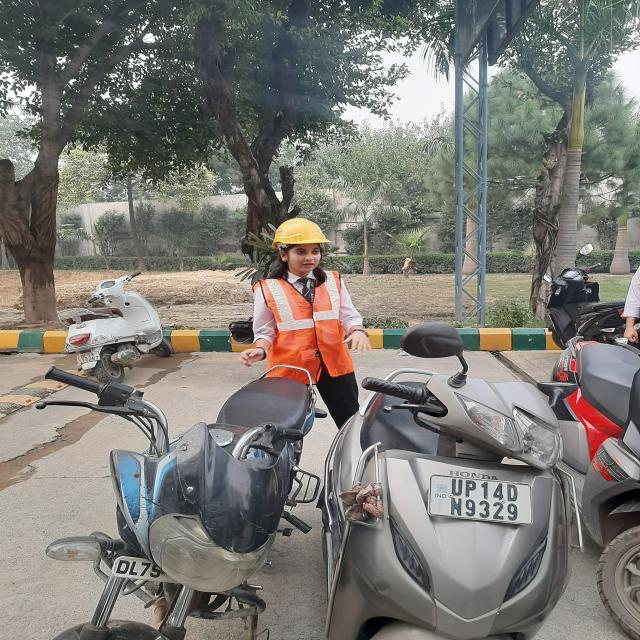safe: (244, 216, 374, 434)
